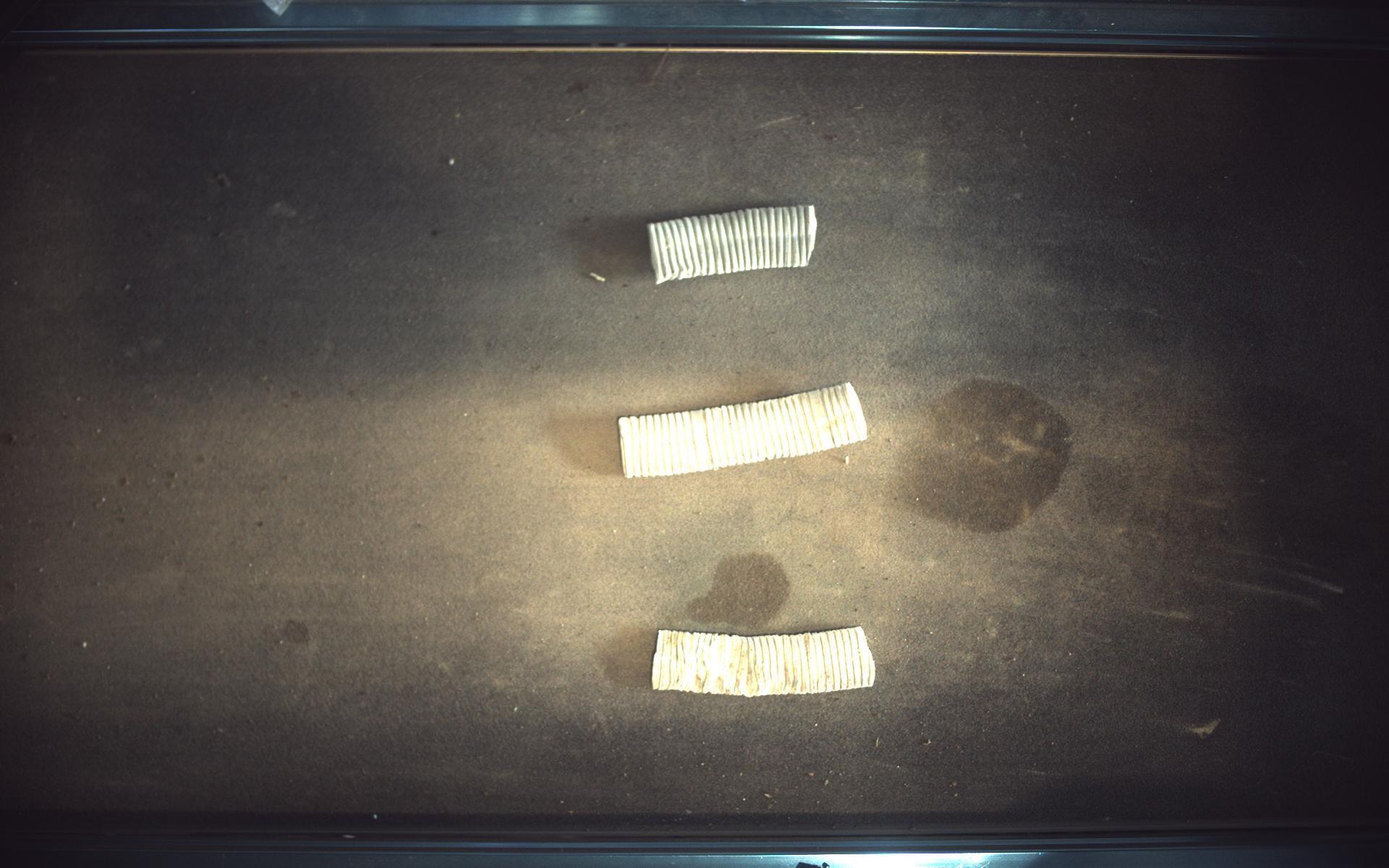pipes: (619, 383, 867, 478), (653, 627, 877, 698), (649, 204, 818, 284)
